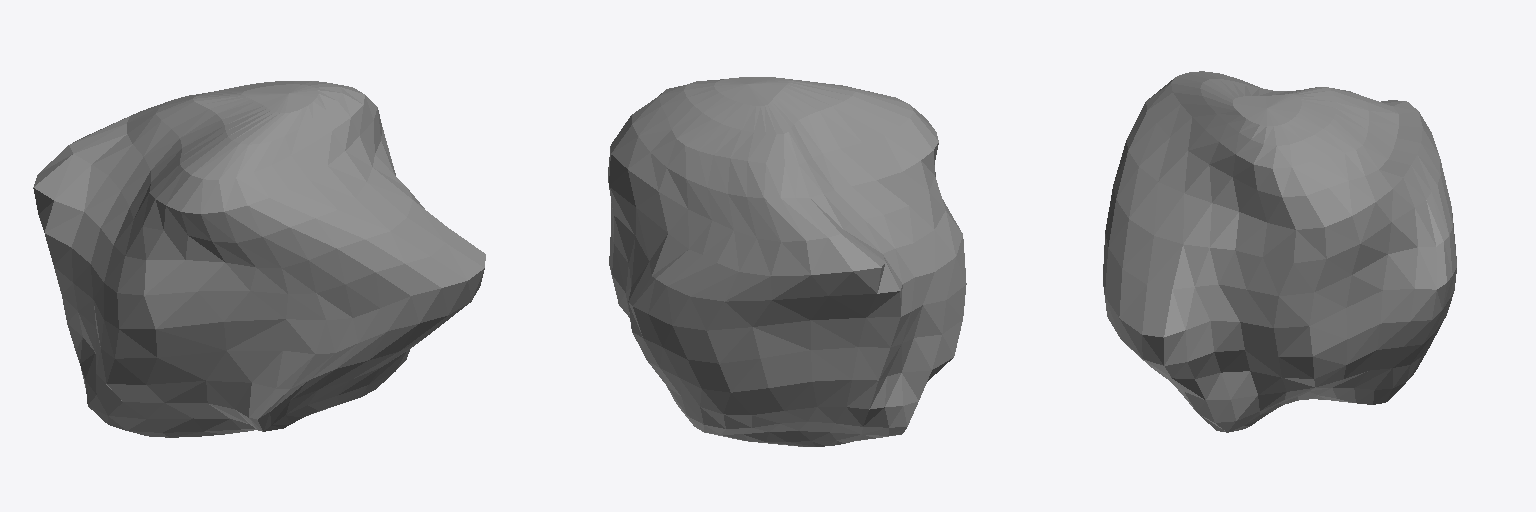
File: meteor_02.obj
3 renders of one model, left to right at view 1: azimuth 30°, elevation 25°; view 2: azimuth 150°, elevation 25°; view 3: azimuth 270°, elevation 25°, orthographic.
Parts seen in each view (by area): view 1: Meteor_02_001; view 2: Meteor_02_001; view 3: Meteor_02_001.
Boxes of the visible parts, x1,y1,x2,y2 form: Meteor_02_001: [33, 81, 485, 437]; Meteor_02_001: [608, 77, 966, 446]; Meteor_02_001: [1103, 71, 1456, 432].
Size of the model in its own units: 236 by 211 by 211.